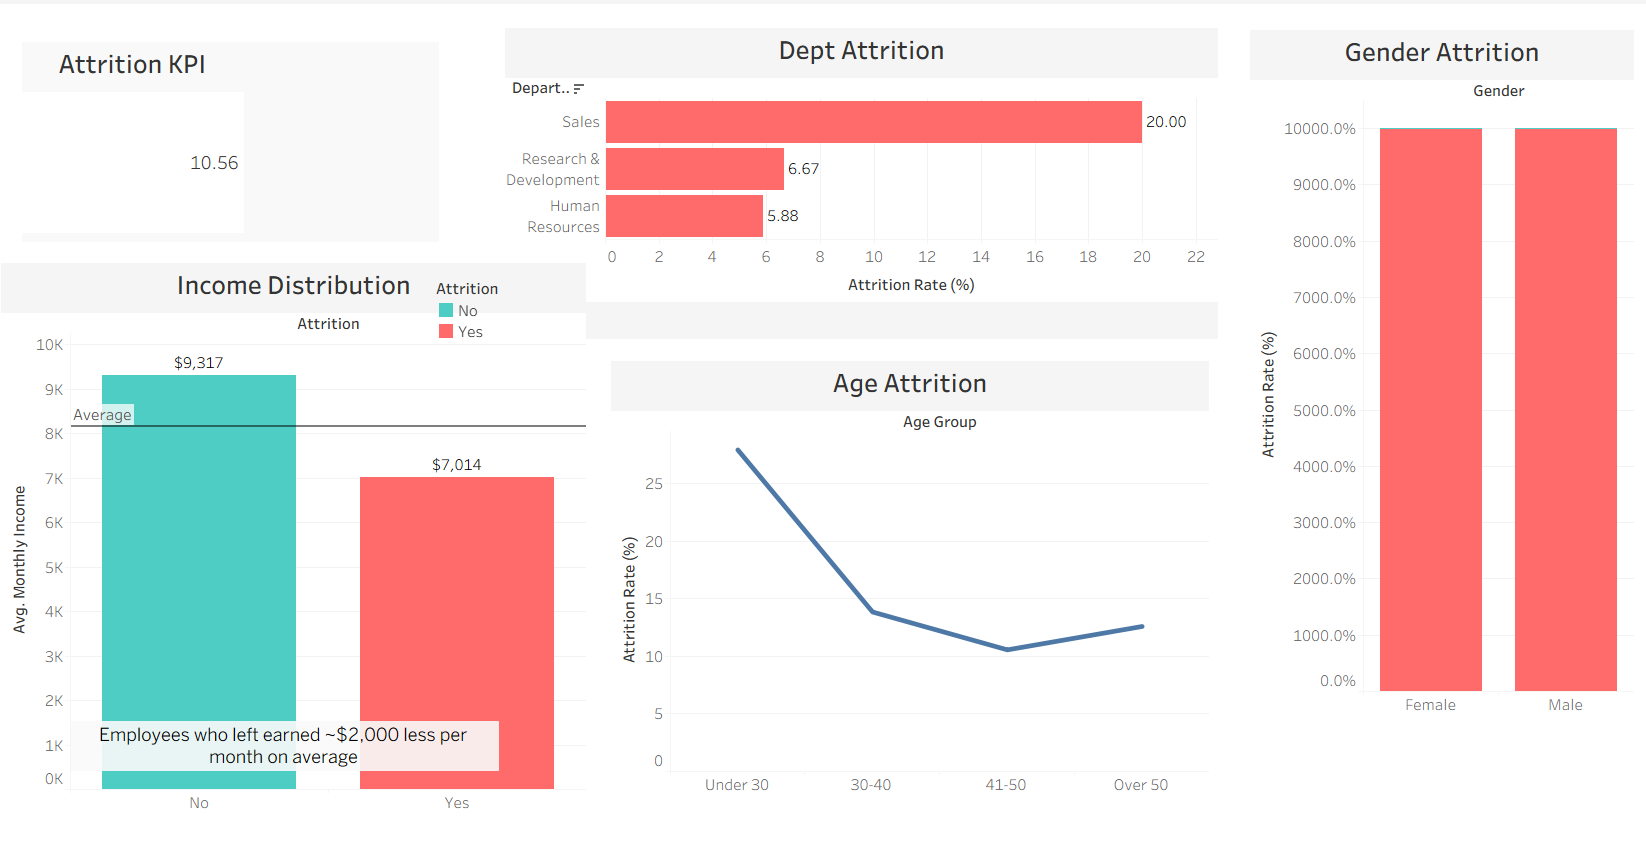

The page's visual inventory and layout, read from the dashboard file:
{"tool":"tableau","page":{"name":" Executive Overview","canvas":[1000,1000],"units":"permille","ordinal":1},"visuals":[{"type":"worksheet","title":"Dept Attrition","mark":"Automatic","rows":["Department"],"cols":["Calculation_19502924076507136"],"box":[311.6,28.2,430.4,365.4]},{"type":"worksheet","title":"Gender Attrition","mark":"Automatic","rows":["Calculation_19502924076507136"],"cols":["Gender"],"box":[761,30.6,231.7,806.1]},{"type":"worksheet","title":"Attrition KPI","mark":"Automatic","box":[19.9,44.6,251.7,235]},{"type":"worksheet","title":"Income Distribution","mark":"Automatic","rows":["MonthlyIncome"],"cols":["Attrition"],"box":[7.2,304.4,353.2,647.5]},{"type":"legend","title":"Income Distribution","param":"[federated.0ozdfbu1gxy1kc16nmb0w1wolmpg].[none:Attrition:nk]","box":[270,322,85,75.2]},{"type":"worksheet","title":"Age Attrition","mark":"Line","rows":["Calculation_19502924076507136"],"cols":["Calculation_19502924076851202"],"box":[375.5,419.5,361.1,511.2]}]}

Visuals, with their boxes on the dashboard's canvas, which has no fixed pixel size, in thousandths of its width and height (x1, y1, x2, y2). These are canvas units, not pixel positions in the 1646x841 screenshot, which may show the page scaled, cropped or inside an application window:
"Dept Attrition" worksheet: (left=312, top=28, right=742, bottom=394)
"Gender Attrition" worksheet: (left=761, top=31, right=993, bottom=837)
"Attrition KPI" worksheet: (left=20, top=45, right=272, bottom=280)
"Income Distribution" worksheet: (left=7, top=304, right=360, bottom=952)
"Income Distribution" legend: (left=270, top=322, right=355, bottom=397)
"Age Attrition" worksheet (Line marks): (left=376, top=420, right=737, bottom=931)
